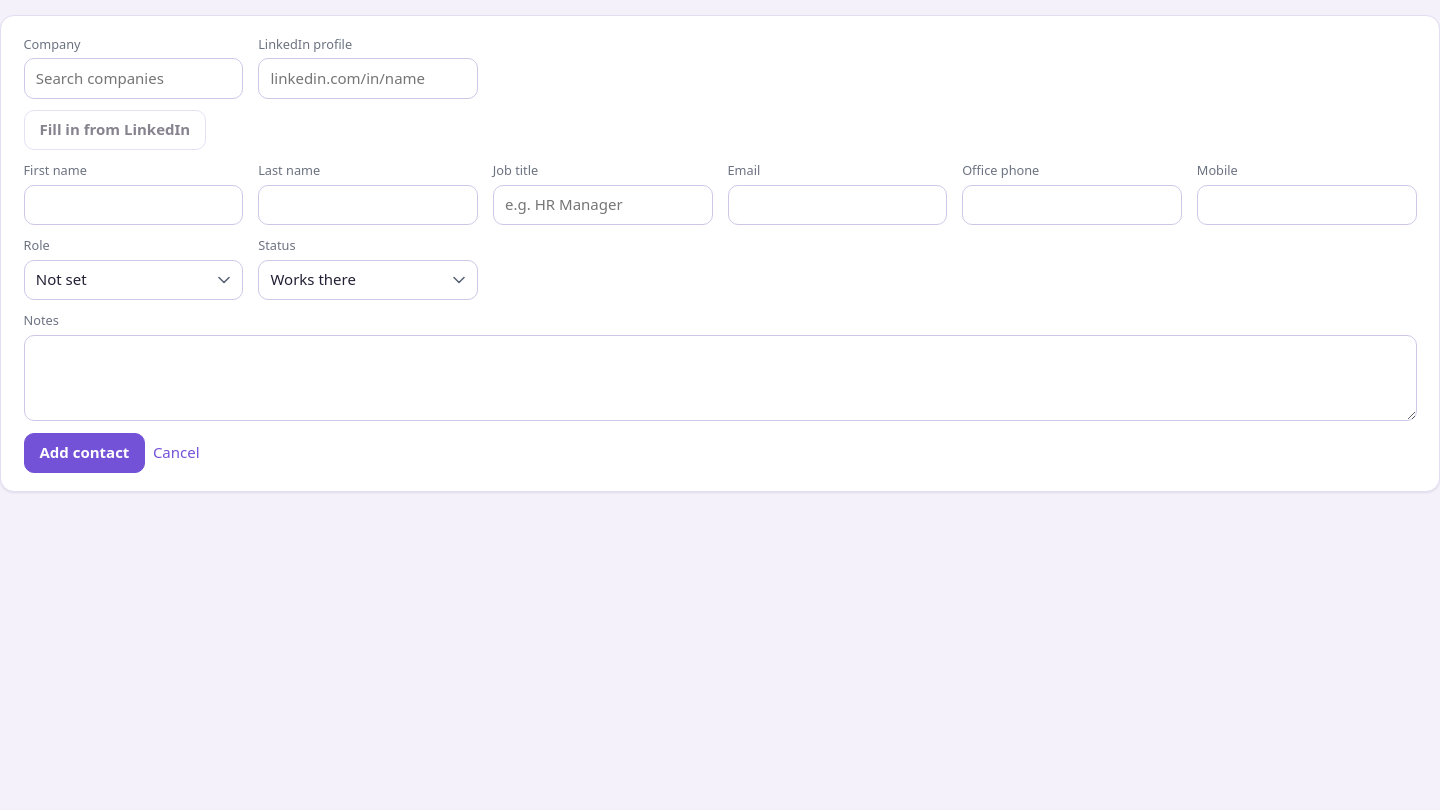
Scenario: a new contact from LinkedIn › fills in their name and title from the profile, and offers their company, the same LinkedIn page first
Type "linkedin.com/in/farah-aziz/" into the field labelled "LinkedIn profile" at (368, 78), box [258,58,478,99]
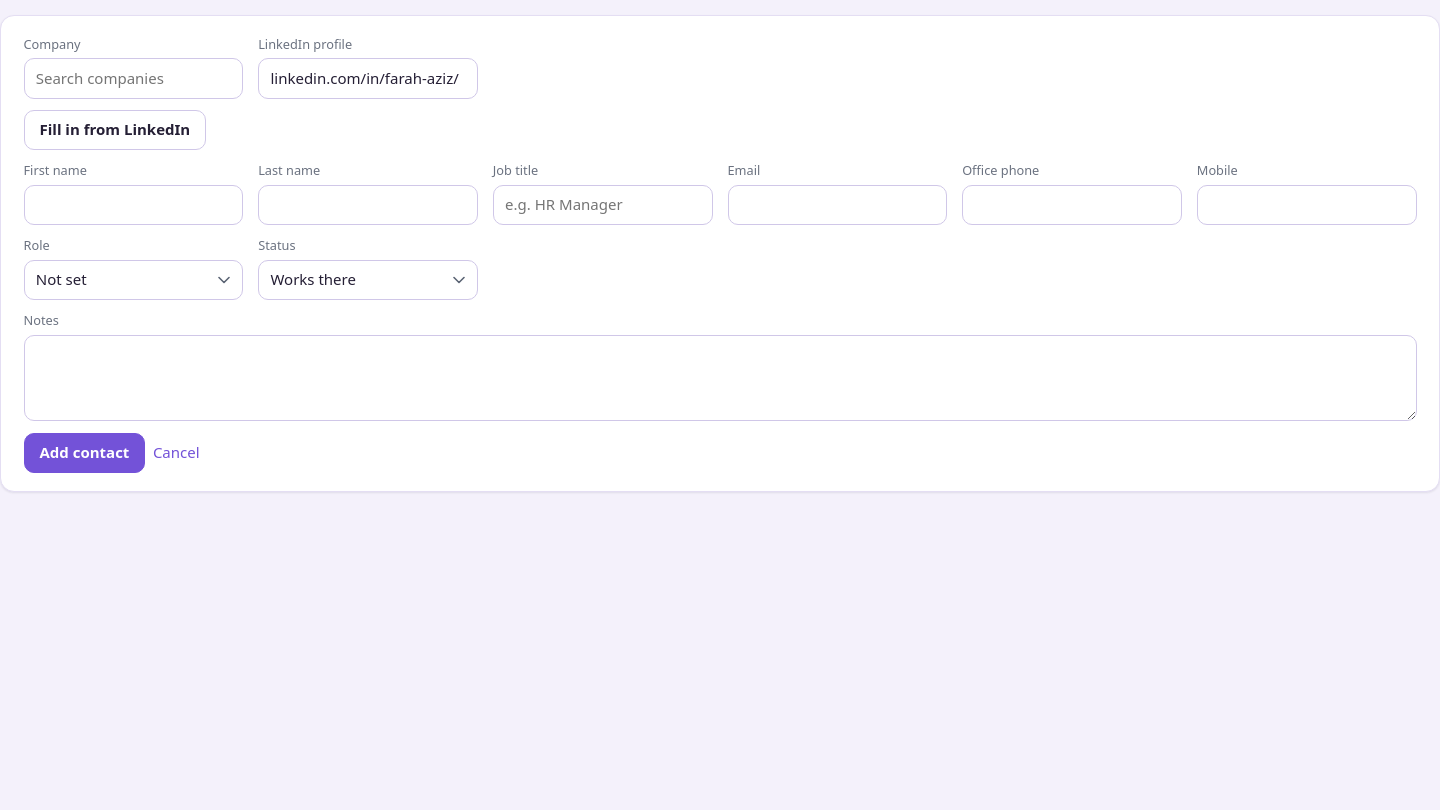
Click the button "Fill in from LinkedIn" at (115, 130), box [24,110,206,150]
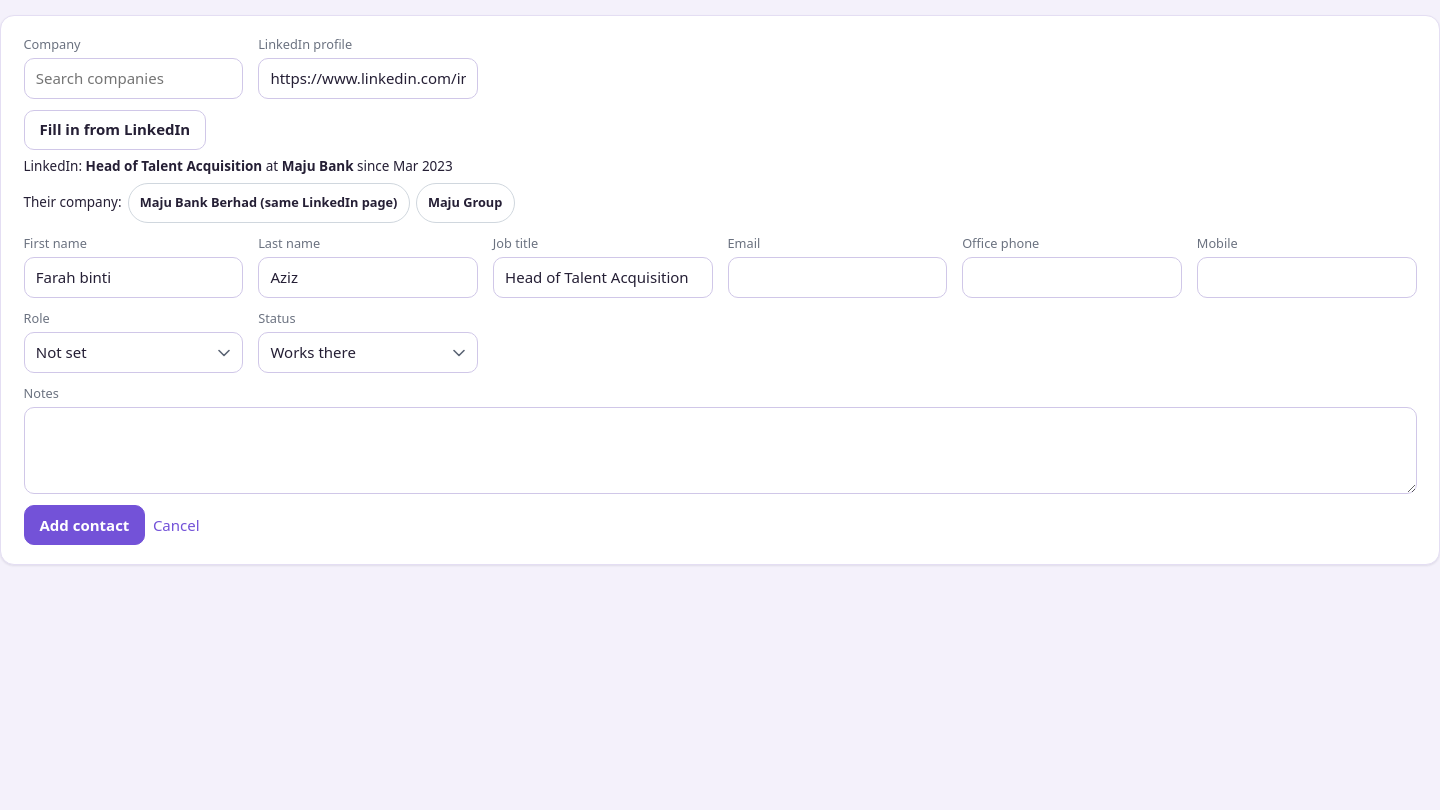
Now the message shows "Head of Talent Acquisition at Maju Bank since Mar 2023", box [24,156,515,223]
Now the field labelled "First name" holds "Farah binti", box [24,257,243,298]
Now the field labelled "Last name" holds "Aziz", box [258,257,478,298]
Click the button "Maju Bank Berhad (same LinkedIn page)" at (269, 203), box [128,183,410,223]
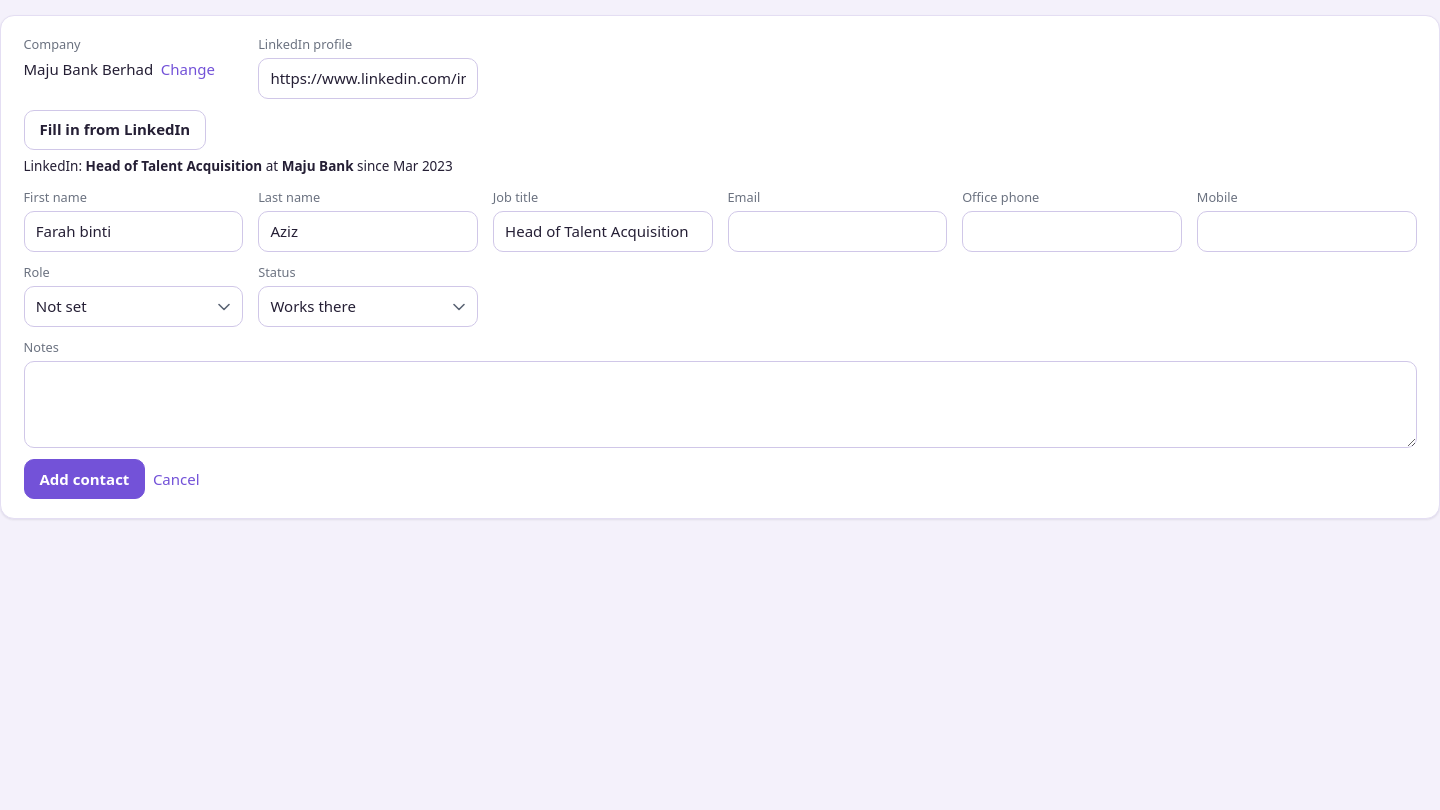
Now the button "Maju Group" is gone
